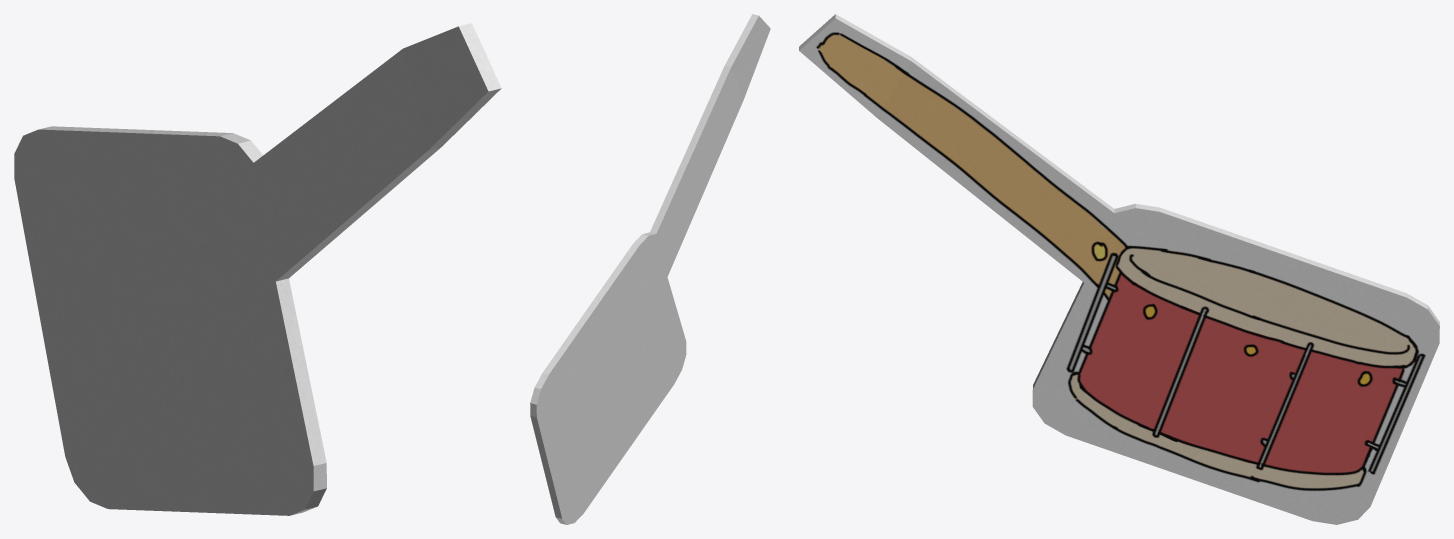
File: DrumRight.fbx
3 renders of one model, left to right at view 1: azimuth 30°, elevation 25°; view 2: azimuth 150°, elevation 25°; view 3: azimuth 270°, elevation 25°, orthographic. The views are drawn at different scales.
Parts seen in each view (by area): view 1: Plane; view 2: Plane; view 3: Plane.
Boxes of the visible parts, x1,y1,x2,y2 form: Plane: (14, 23, 501, 515); Plane: (530, 14, 770, 524); Plane: (799, 14, 1439, 524).
Size of the model in its own units: 1.44 by 63.11 by 72.34.
